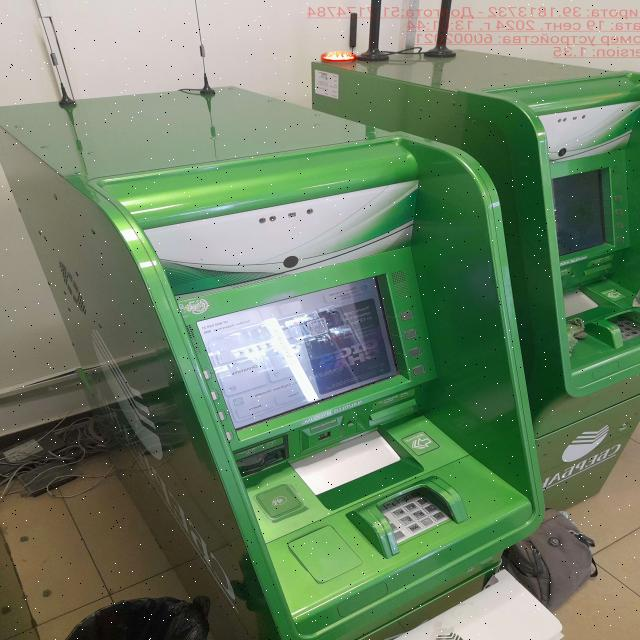bank: (0, 86, 547, 640), (311, 49, 640, 510)
